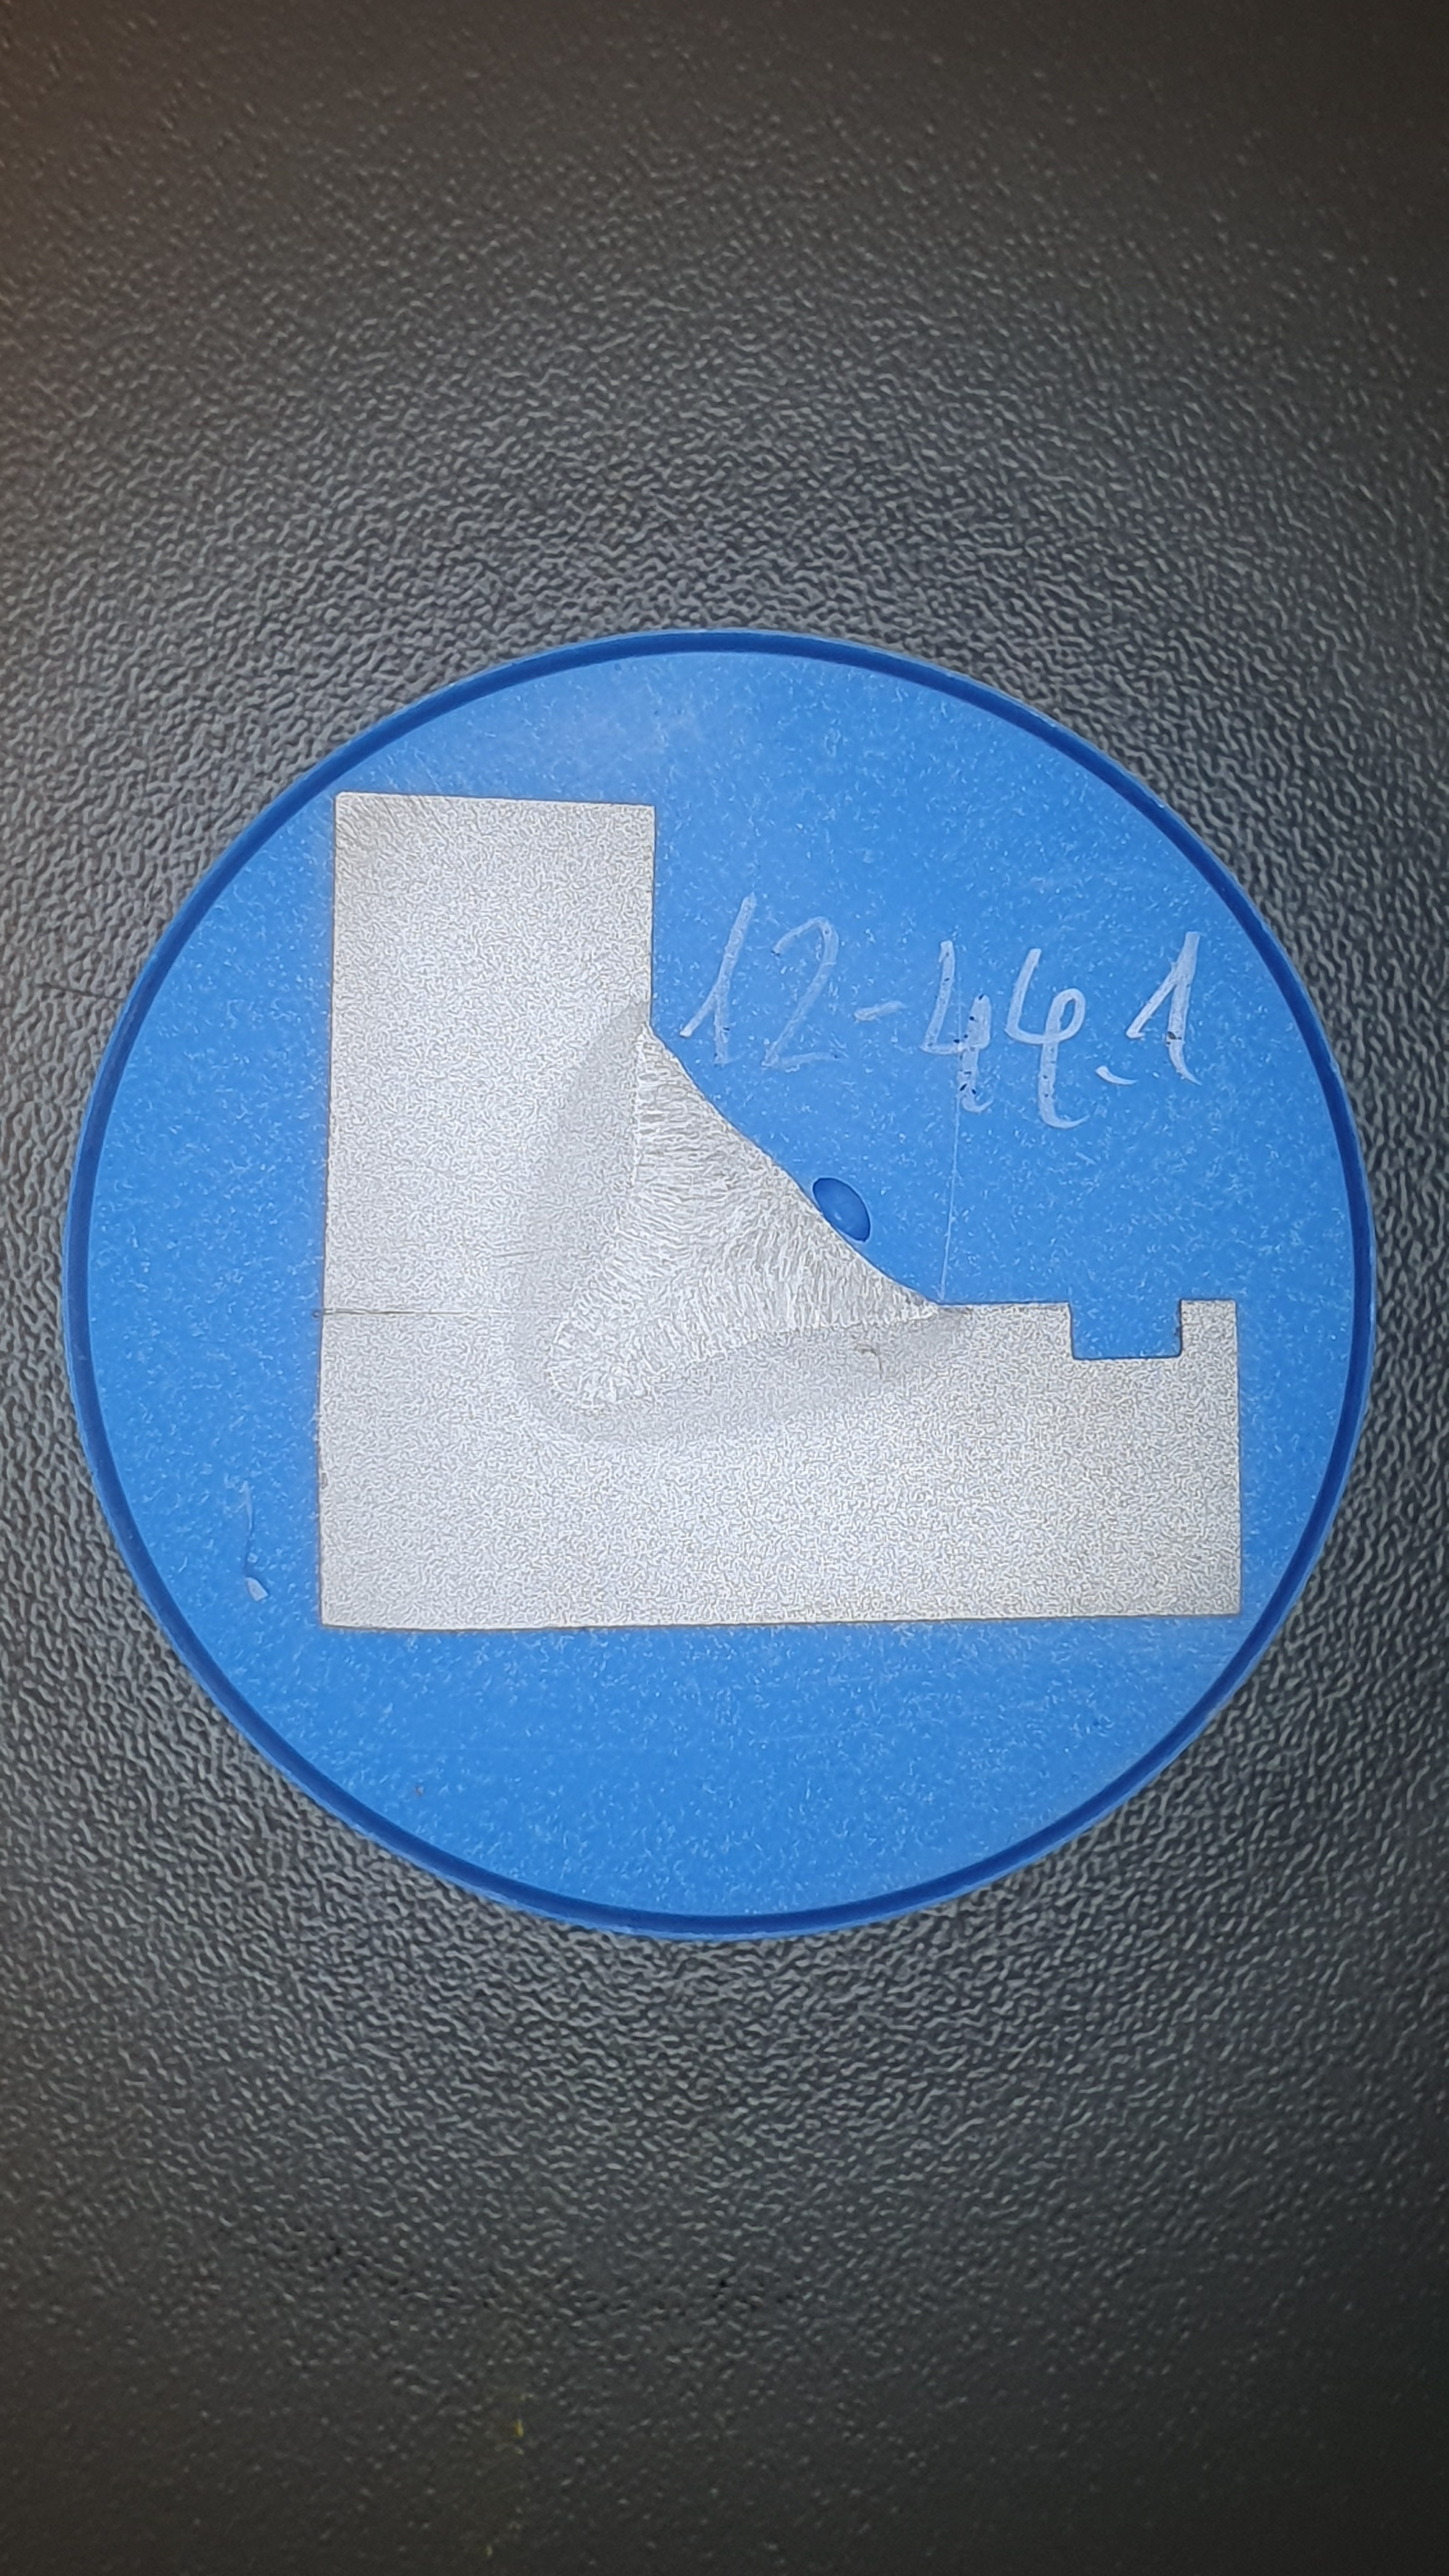Fusion: (544, 1022, 937, 1411)
Hintergrund: (89, 652, 1354, 1916)
Metall: (317, 790, 1242, 1630)
Nebenbereich: (503, 997, 978, 1446)
